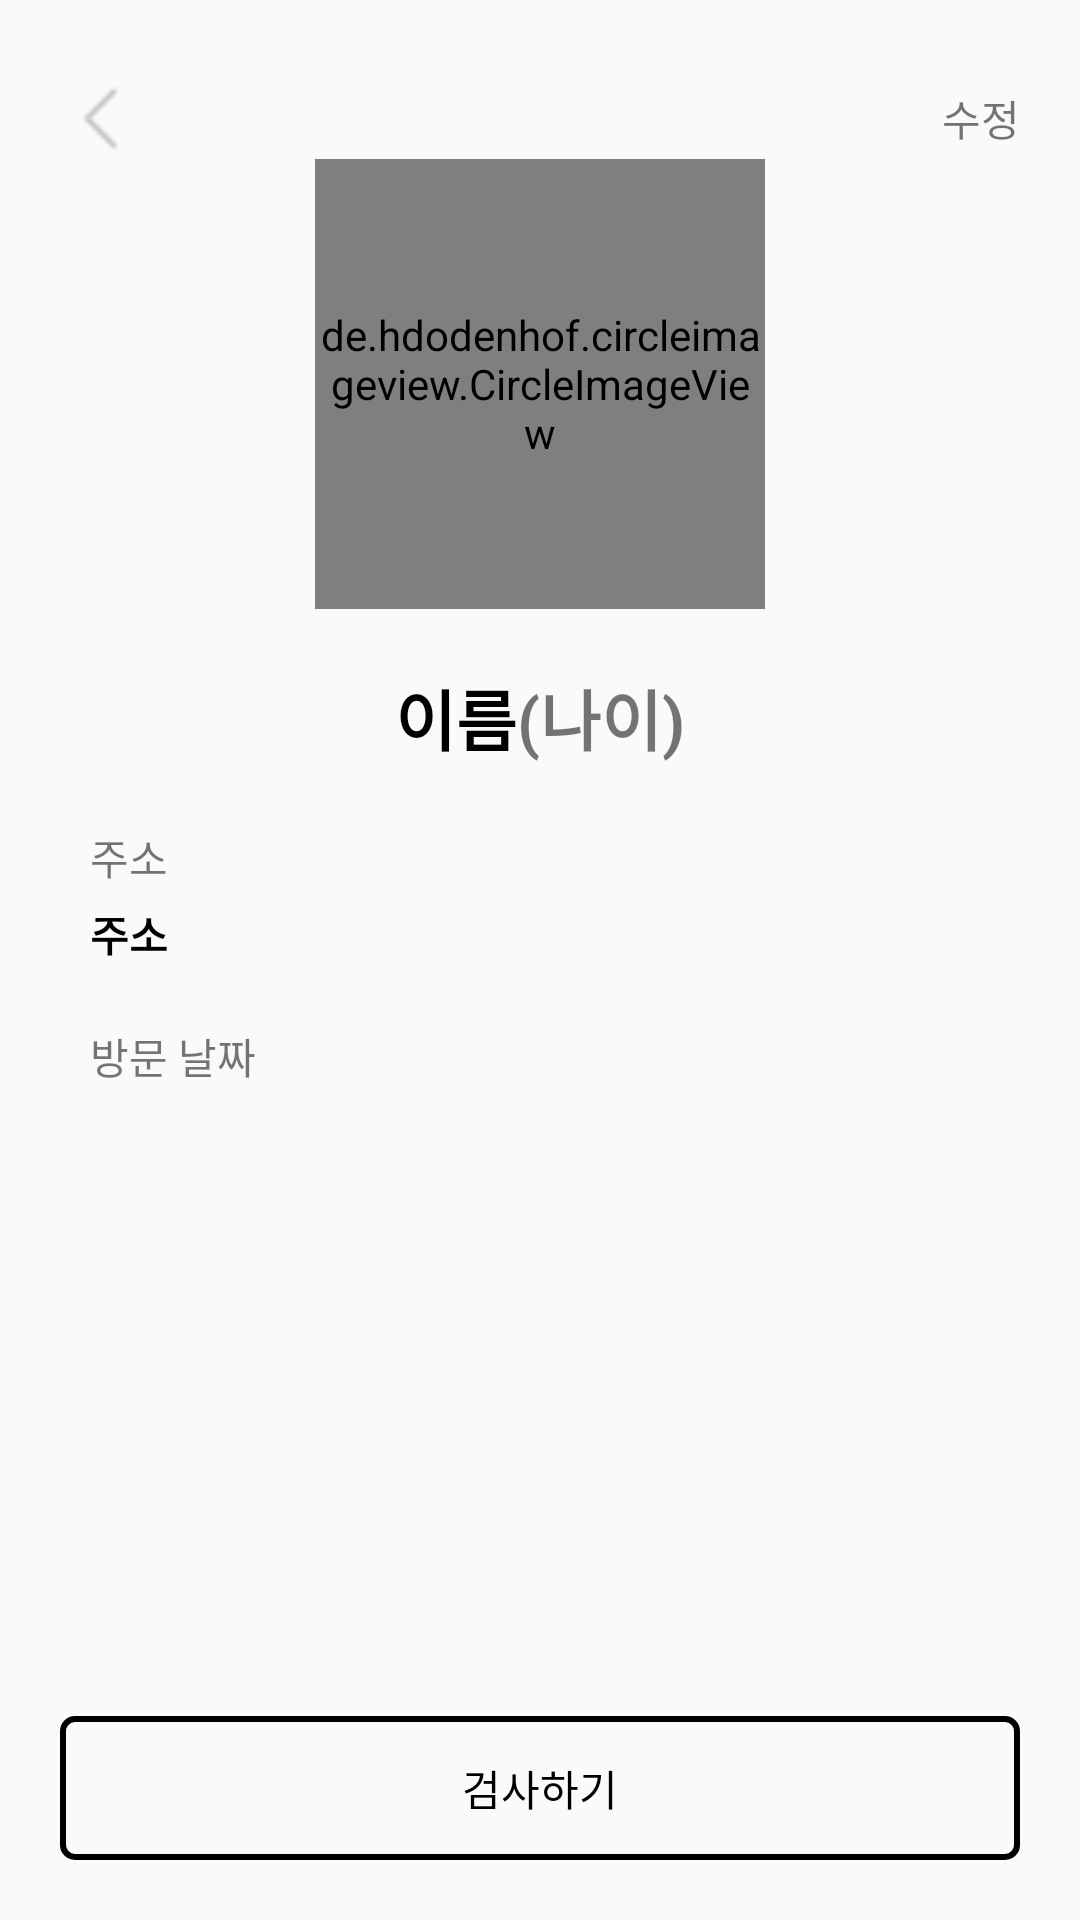

Screen size 1080×1920. Icon name, then its box in pixels as bbox=(x1, y1, x2, y2):
back: bbox=(84, 89, 117, 148)
